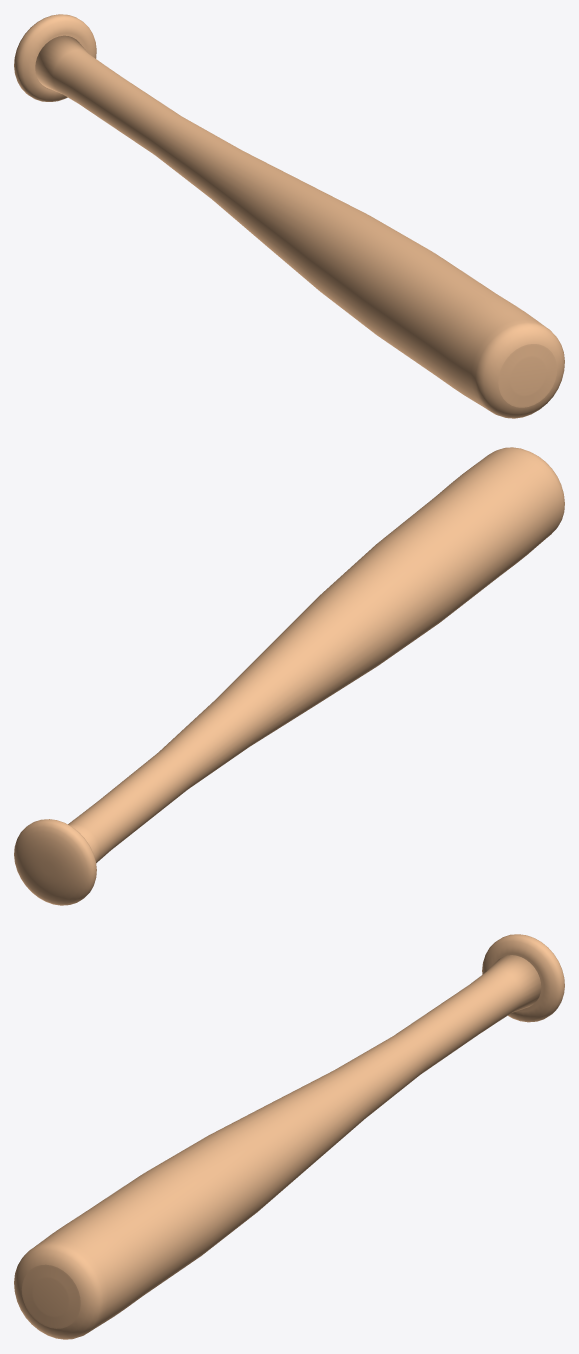
File: Baseball bat.fbx
3 renders of one model, top to bottom at view 1: azimuth 30°, elevation 25°; view 2: azimuth 150°, elevation 25°; view 3: azimuth 330°, elevation 25°, orthographic.
Parts seen in each view (by area): view 1: basseball bat; view 2: basseball bat; view 3: basseball bat.
Boxes of the visible parts, x1,y1,x2,y2 form: basseball bat: [14, 14, 564, 418]; basseball bat: [14, 447, 564, 905]; basseball bat: [14, 934, 564, 1339].
Size of the model in its own units: 0.0986 by 0.1204 by 0.9147.
